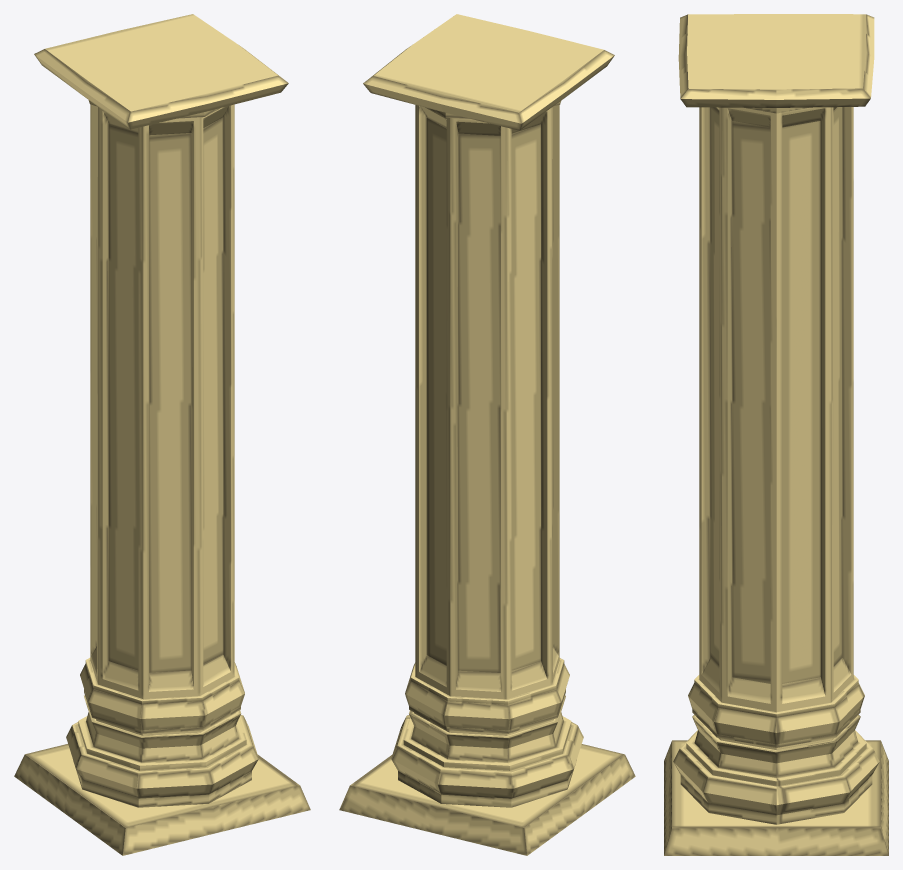
File: columna (1).fbx
3 renders of one model, left to right at view 1: azimuth 30°, elevation 25°; view 2: azimuth 150°, elevation 25°; view 3: azimuth 270°, elevation 25°, orthographic. The views are drawn at different scales.
Visible parts, largest first — view 1: Cube; view 2: Cube; view 3: Cube.
Part boxes in pixels (x1,y1,x2,y2): Cube: (14, 14, 310, 855); Cube: (339, 14, 635, 855); Cube: (664, 14, 888, 855).
Size of the model in its own units: 216 by 800 by 216.
1 material, 1 textured.
